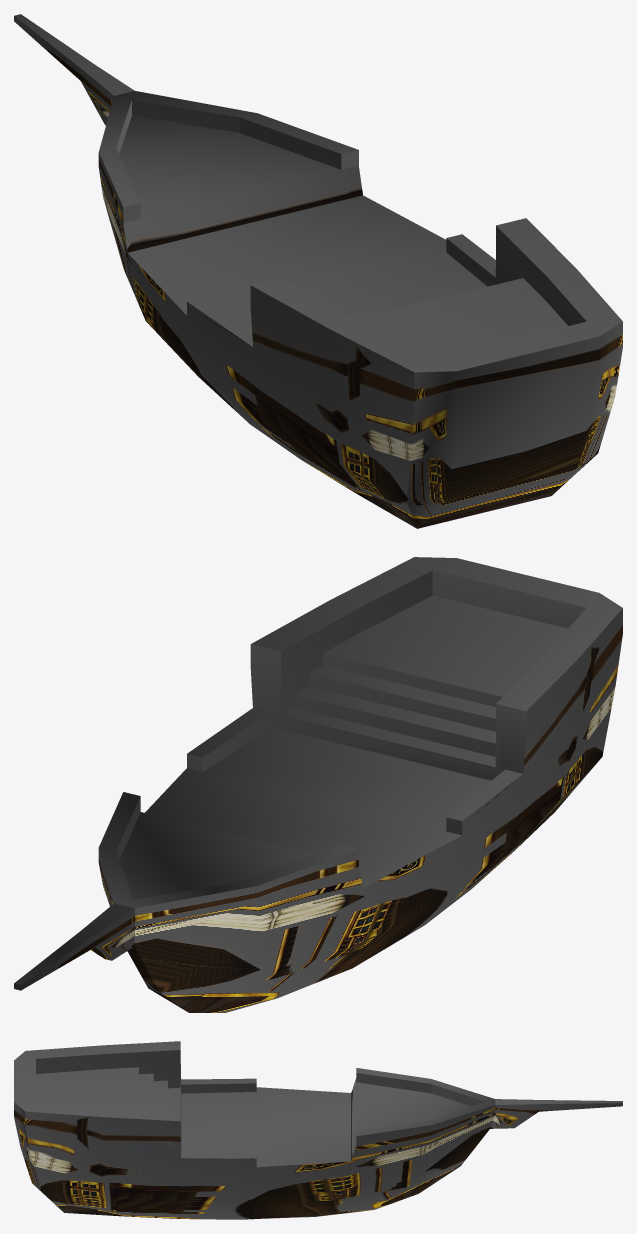
3 renders of one model, top to bottom at view 1: azimuth 30°, elevation 25°; view 2: azimuth 150°, elevation 25°; view 3: azimuth 270°, elevation 25°, orthographic. The views are drawn at different scales.
Parts seen in each view (by area): view 1: base; view 2: base; view 3: base.
Boxes of the visible parts, left/top/right/bottom form: base: left=14, top=14, right=622, bottom=528; base: left=14, top=557, right=622, bottom=1012; base: left=14, top=1041, right=622, bottom=1219.
Bounding box in the file's own units: 54.64 × 43.96 × 175.
1 material, 1 textured.
